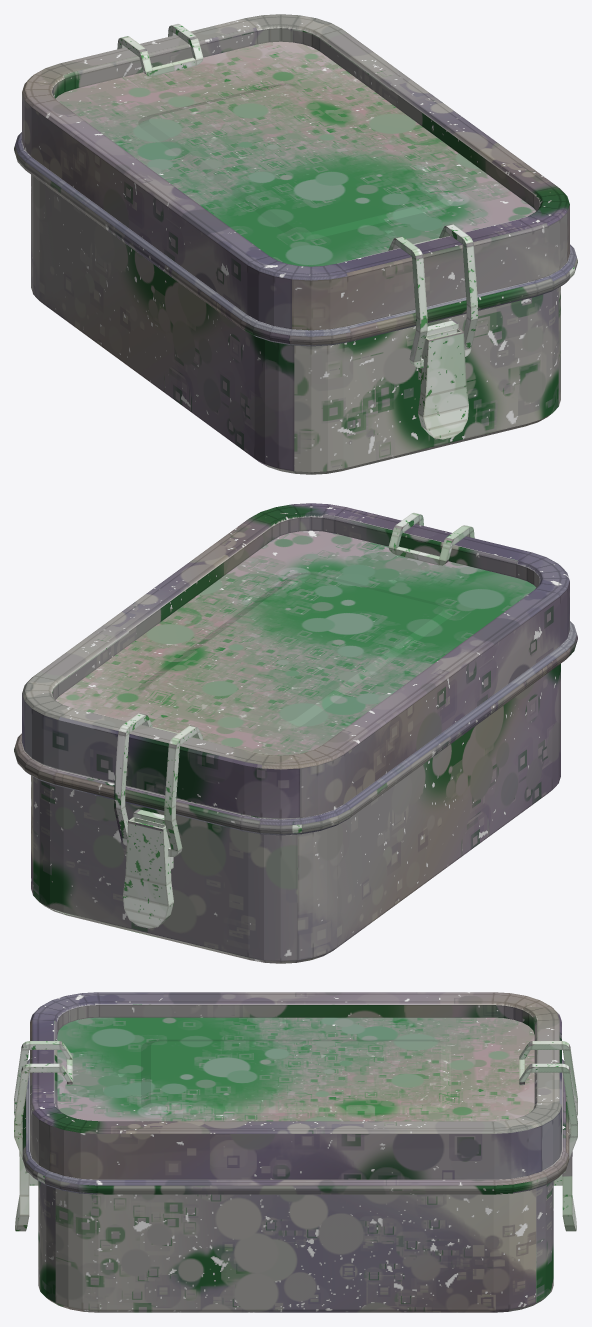
The model's file is FoodTin_TEXTURED.fbx.
3 views of the same model, one above another, from view 1: azimuth 30°, elevation 25°; view 2: azimuth 150°, elevation 25°; view 3: azimuth 270°, elevation 25° (orthographic). The views are drawn at different scales.
Visible parts, largest first — view 1: Cube; view 2: Cube; view 3: Cube.
Part boxes in pixels (x1,y1,x2,y2): Cube: [14, 14, 577, 474]; Cube: [14, 503, 577, 963]; Cube: [14, 992, 577, 1312].
Bounding box in the file's own units: 220 × 135 × 357.
1 material, 1 textured.
